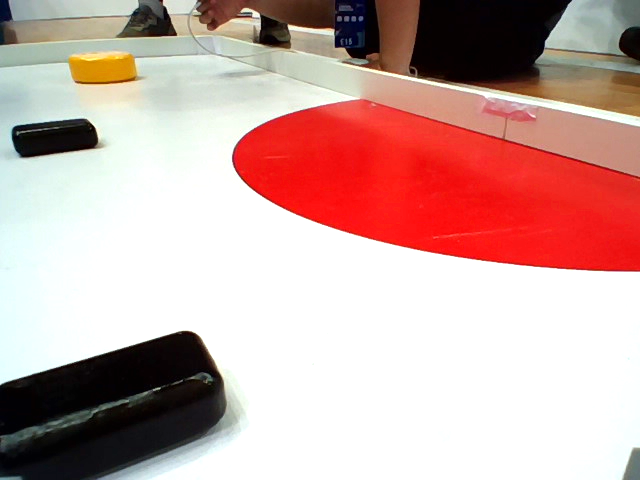black: (1, 327, 233, 475), (12, 119, 100, 160)
yellow: (67, 49, 141, 85)
